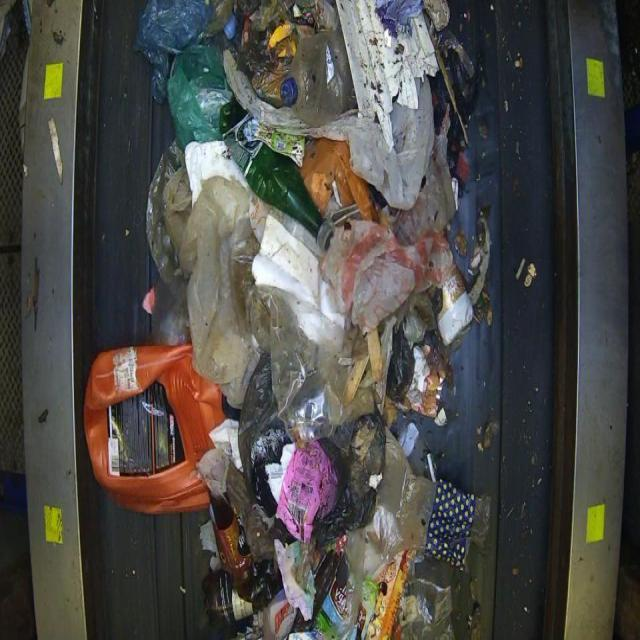cups: (82, 341, 227, 515)
other-trash: (89, 0, 502, 639)
